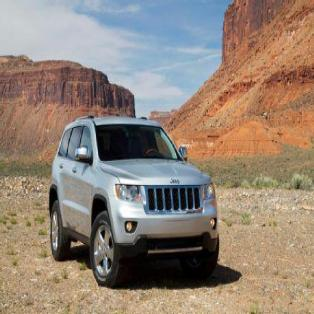Auto: (48, 114, 220, 289)
